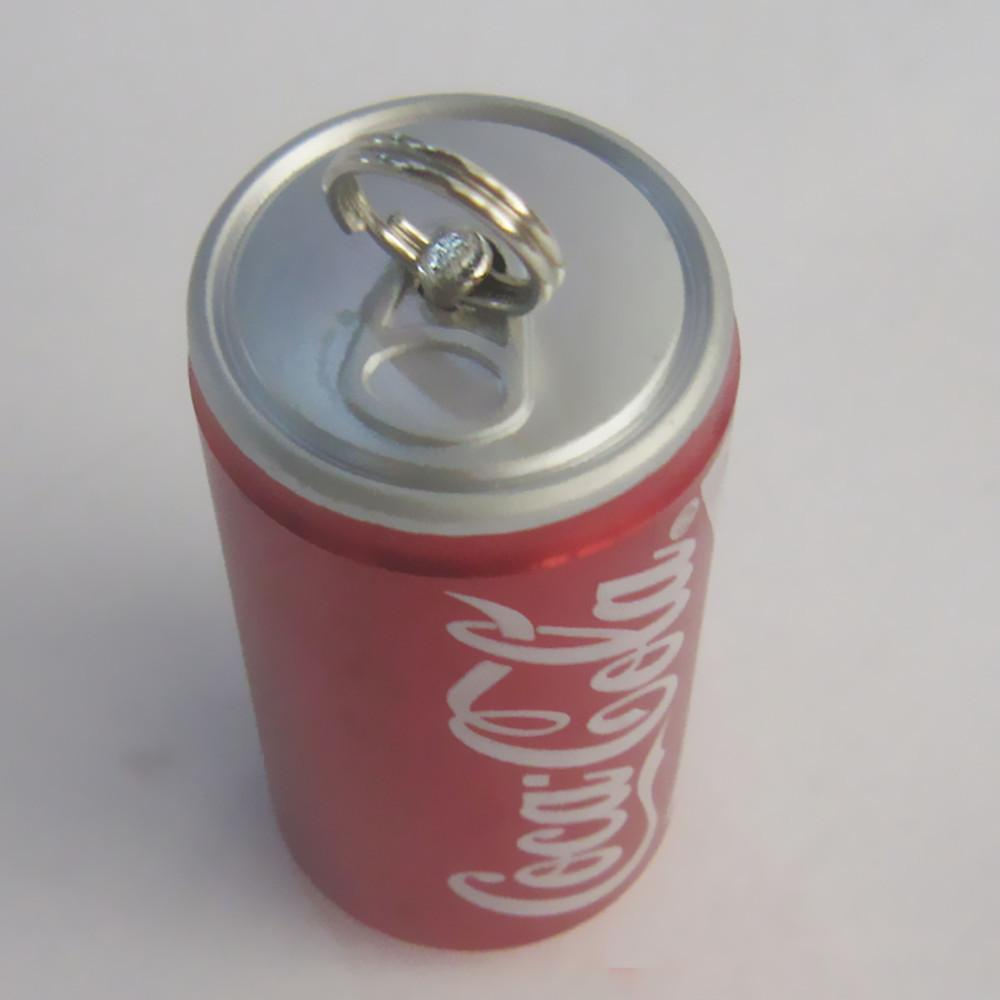metal: (189, 95, 739, 949)
